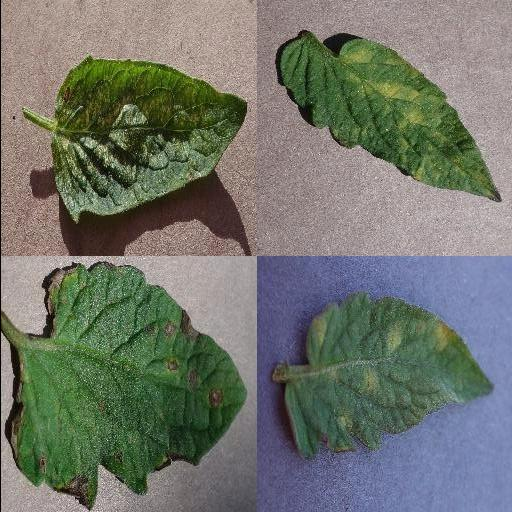Early Blight: (7, 262, 249, 510)
Leaf Mold: (277, 33, 501, 202), (282, 295, 494, 462)
Spider Mites: (50, 55, 248, 223)
